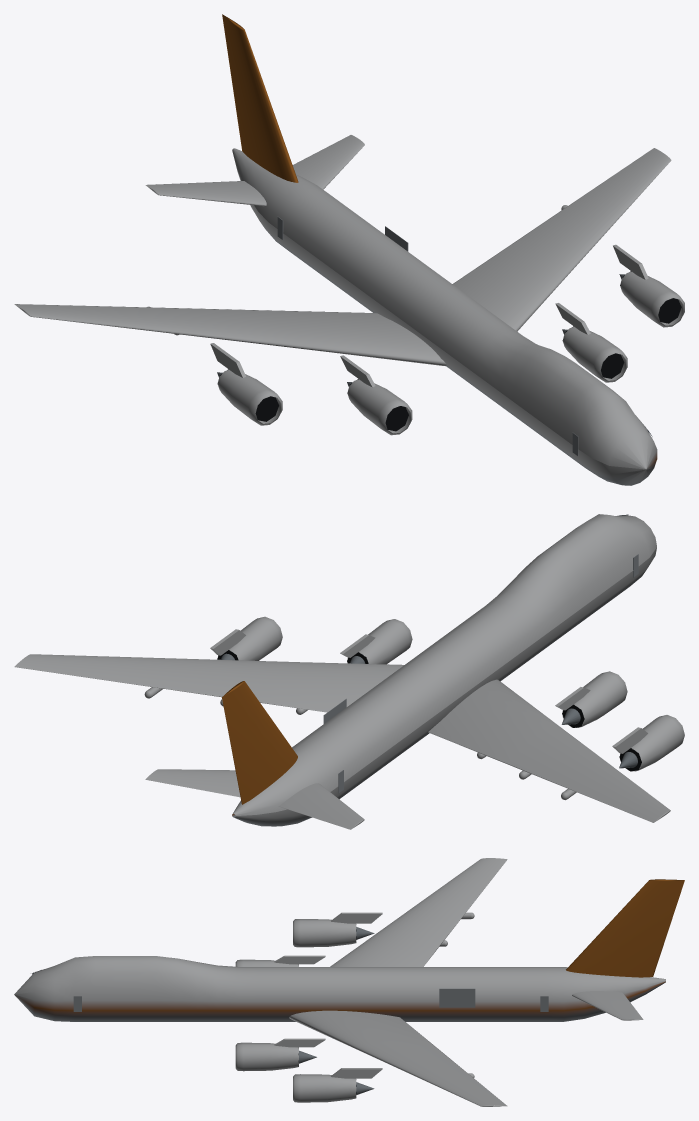
The model's file is heavy4.glb.
3 renders of one model, top to bottom at view 1: azimuth 30°, elevation 25°; view 2: azimuth 150°, elevation 25°; view 3: azimuth 270°, elevation 25°, orthographic. The views are drawn at different scales.
Size of the model in its own units: 68.4 by 19.18 by 78.53.
